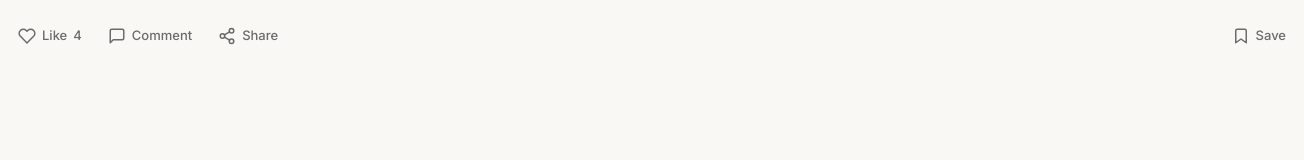
Scenario: FeedEngagementActions › optimistically saves and keeps the returned state
Step 1. Click the button with aria-label "Save for later" → (1259,36), box [1226, 16, 1292, 56]
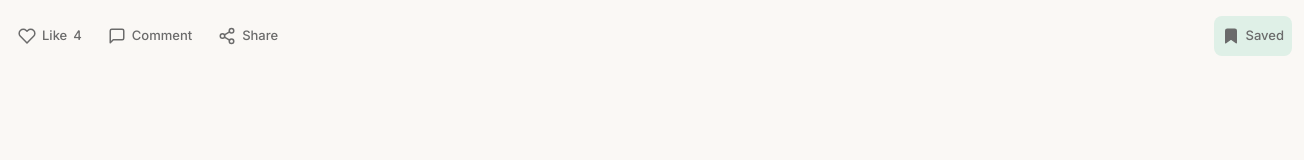
Now the button with aria-label "Remove from saved" is shown, box [1214, 16, 1292, 56]
